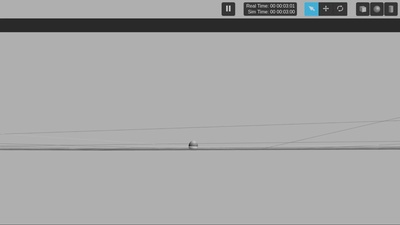mira_robot: (189, 140, 199, 149)
